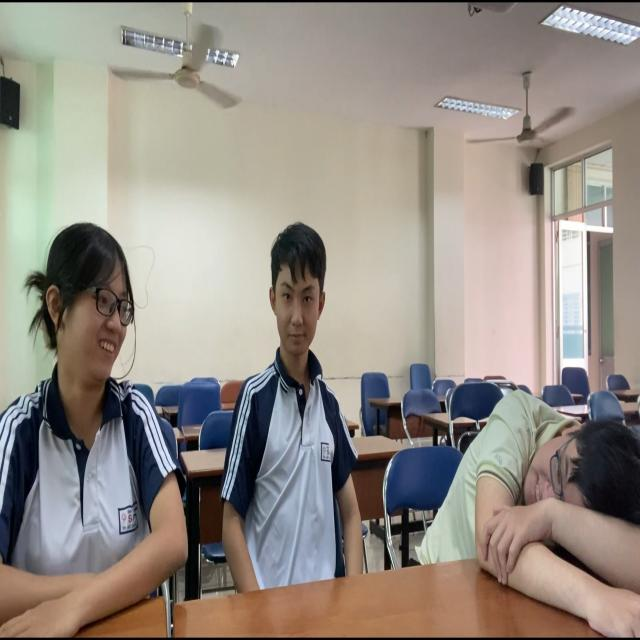sleep: (411, 369, 640, 640)
